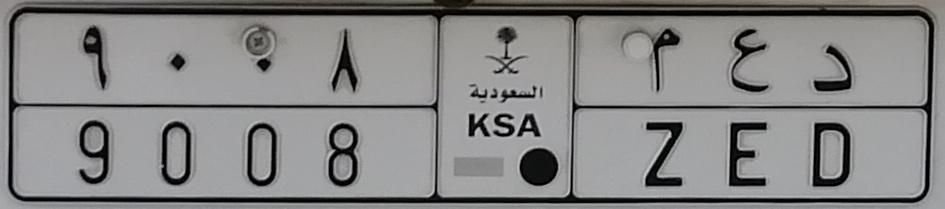0: (155, 48, 195, 188), (245, 57, 280, 187)
8: (324, 27, 365, 190)
9: (74, 25, 115, 188)
E: (726, 27, 773, 189)
Z: (640, 29, 687, 188)
